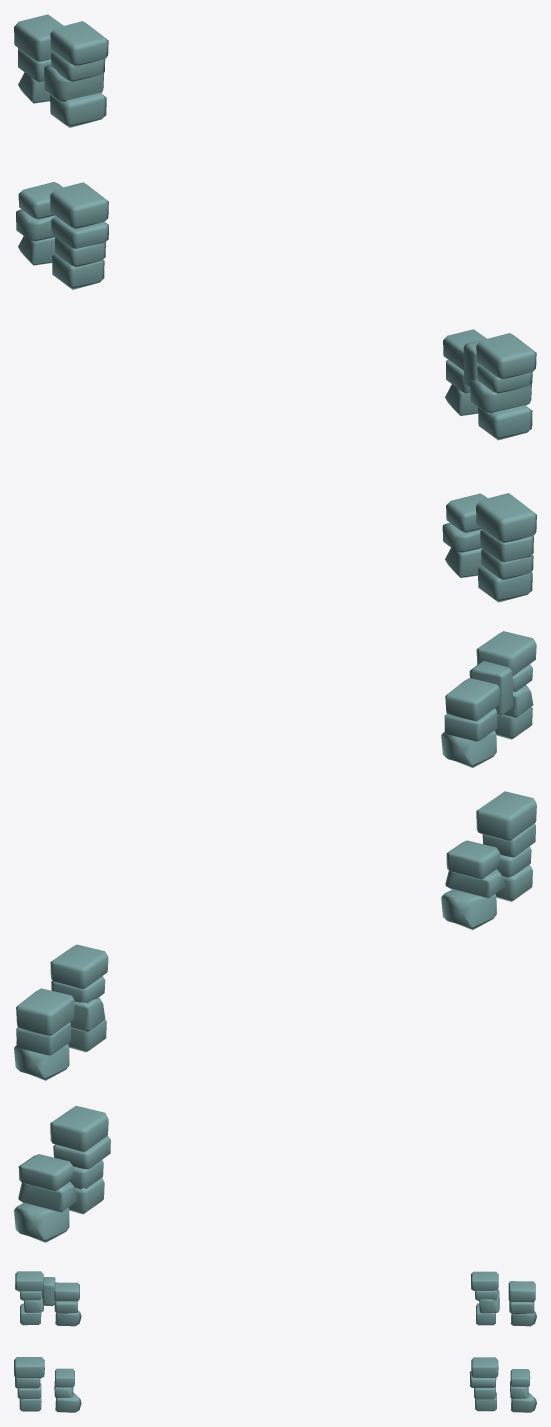
The model's file is Beam_Structure_15A_Lod0.fbx.
The picture shows the model from 3 angles, top to bottom: view 1: azimuth 30°, elevation 25°; view 2: azimuth 150°, elevation 25°; view 3: azimuth 270°, elevation 25°; orthographic projection. The views are drawn at different scales.
Parts seen in each view (by area): view 1: Beam_Structure_15A_Lod0; view 2: Beam_Structure_15A_Lod0; view 3: Beam_Structure_15A_Lod0.
Part boxes in pixels (x1,y1,x2,y2): Beam_Structure_15A_Lod0: [14, 14, 536, 602]; Beam_Structure_15A_Lod0: [14, 631, 536, 1242]; Beam_Structure_15A_Lod0: [14, 1271, 536, 1412].
Size of the model in its own units: 32.72 by 167 by 591.
